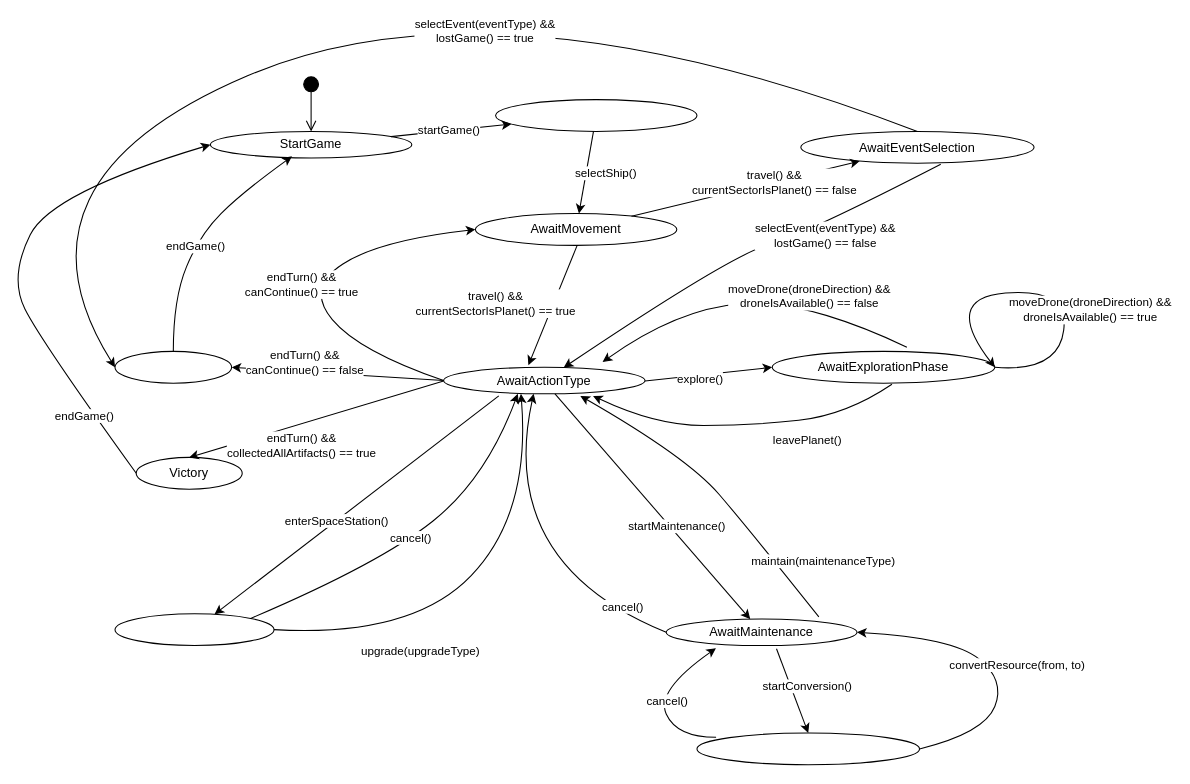
Some shapes in this 1190 by 784 pixel diagram are drawn without their labels. Here are the shapes that lost their labels. From the top down, the centre of each, then its label:
At (x=595, y=115): "AwaitShipSelection".
At (x=173, y=366): "Defeat".
At (x=194, y=629): "AwaitUpgrade".
At (x=808, y=748): "AwaitResourceConversion".
